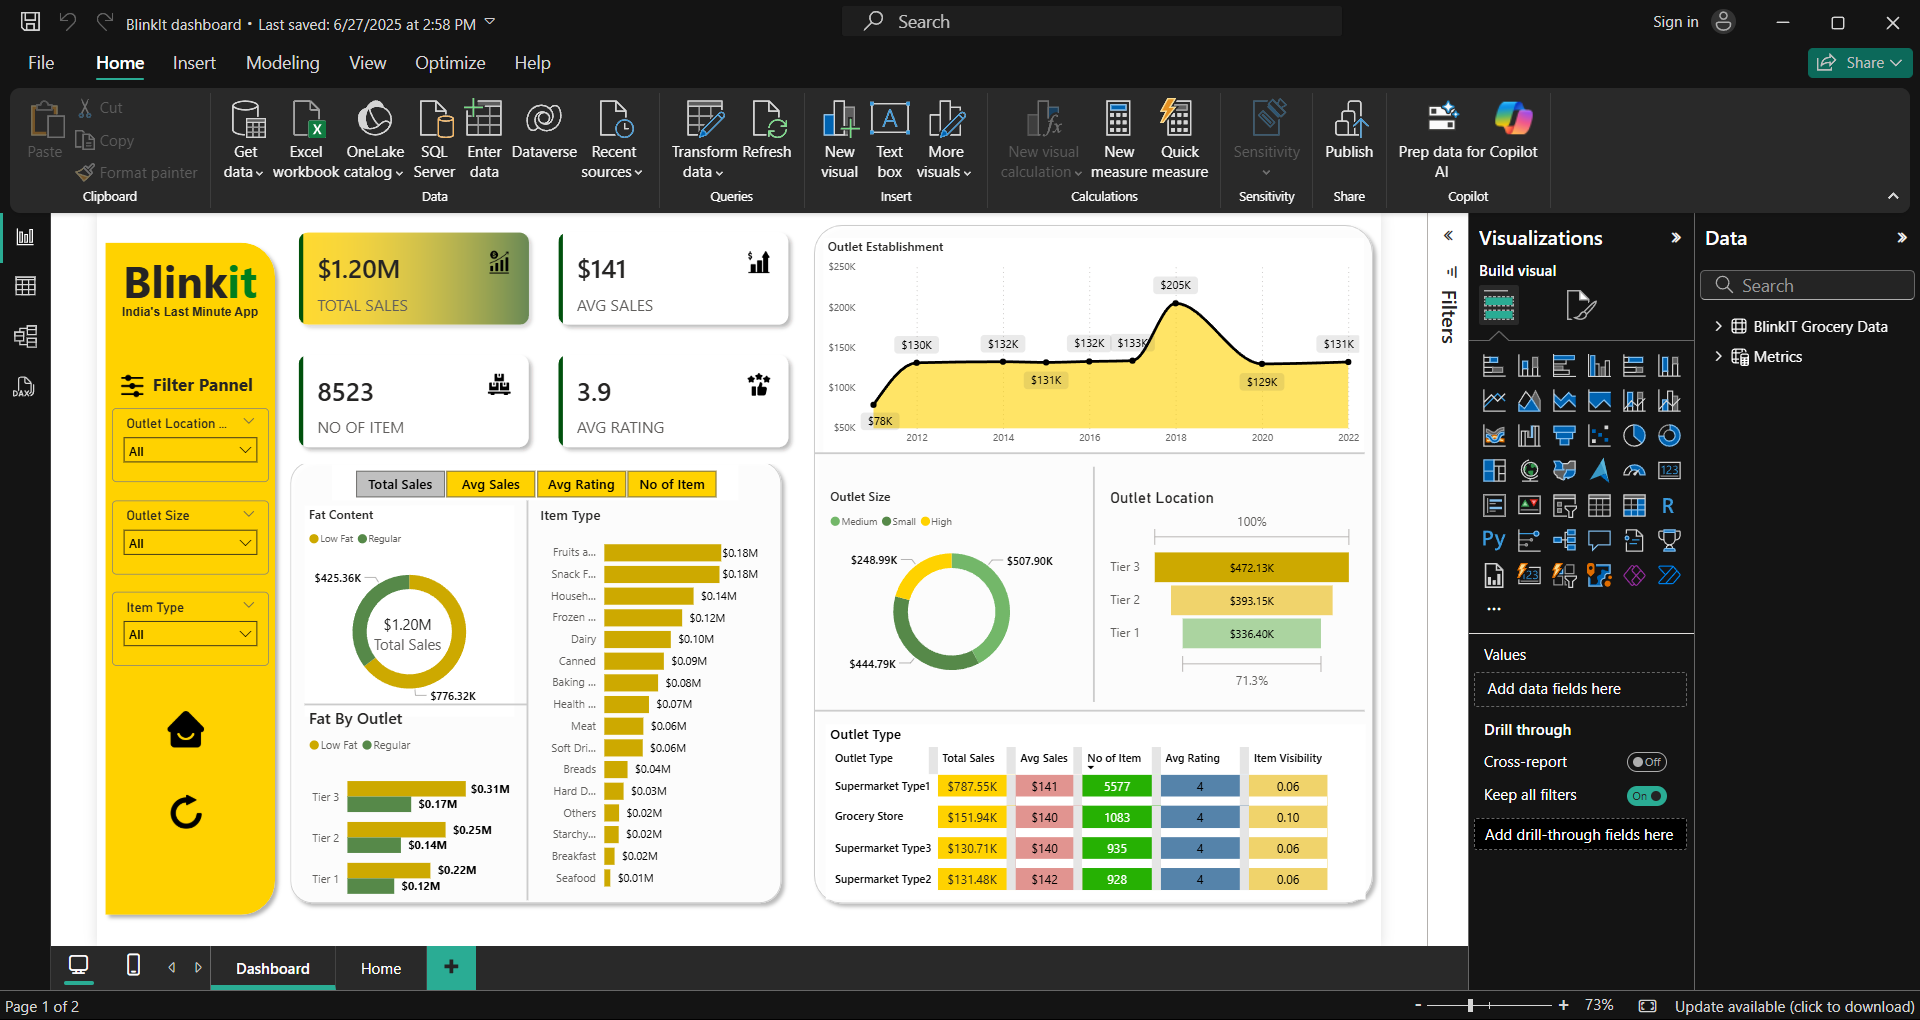

What the dashboard file says about the page in this screenshot:
{"tool":"powerbi","page":{"name":"Dashboard","canvas":[1400,800],"ordinal":0},"visuals":[{"type":"shape","box":[201.4,262.3,553.6,500],"z":0},{"type":"shape","box":[0,23.2,203.1,751.2],"z":1000},{"type":"textbox","box":[0,35.4,203.1,85.9],"z":2000},{"type":"textbox","box":[12.3,92.7,178.6,28.6],"z":3000},{"type":"cardVisual","fields":{"Data":["BlinkIT Grocery Data.Total Sales","BlinkIT Grocery Data.Average Sales","BlinkIT Grocery Data.No of Item","BlinkIT Grocery Data.Average Rating"]},"box":[203.1,4.1,569.9,269.9],"z":4000},{"type":"donutChart","title":"Fat Content","fields":{"Y":["BlinkIT Grocery Data.Total Sales"],"Category":["BlinkIT Grocery Data.Item Fat Content"]},"box":[226.1,318.8,229,230.4],"z":5000},{"type":"slicer","fields":{"Values":["Metrics.Metrics"]},"box":[256.5,273.9,443.5,39.1],"z":6000},{"type":"cardVisual","fields":{"Data":["BlinkIT Grocery Data.Total Sales"]},"box":[281.7,419.7,113,78.3],"z":7000},{"type":"clusteredBarChart","title":"Fat By  Outlet","fields":{"Y":["BlinkIT Grocery Data.Total Sales"],"Category":["BlinkIT Grocery Data.Outlet Location Type"],"Series":["BlinkIT Grocery Data.Item Fat Content"]},"box":[226.1,539.1,229,229],"z":8000},{"type":"shape","box":[226.1,520.3,243.5,30.4],"z":9000},{"type":"shape","box":[460.9,313,17.4,436.2],"z":10000},{"type":"barChart","title":"Item Type","fields":{"Y":["BlinkIT Grocery Data.Total Sales"],"Category":["BlinkIT Grocery Data.Item Type"]},"box":[478.3,318.8,247.8,430.4],"z":11000},{"type":"shape","box":[772.5,4.3,627.5,758],"z":12000},{"type":"lineChart","title":" Outlet Establishment ","fields":{"Category":["BlinkIT Grocery Data.Outlet Establishment Year"],"Y":["BlinkIT Grocery Data.Total Sales"]},"box":[792.8,27.5,589.9,234.8],"z":13000},{"type":"shape","box":[782.6,246.4,600,30.4],"z":14000},{"type":"donutChart","title":"Outlet Size","fields":{"Y":["BlinkIT Grocery Data.Total Sales"],"Category":["BlinkIT Grocery Data.Outlet Size"]},"box":[795.1,300,275,225],"z":15000},{"type":"shape","box":[1075.4,276.8,23.2,256.5],"z":16000},{"type":"funnel","title":"Outlet Location","fields":{"Category":["BlinkIT Grocery Data.Outlet Location Type"],"Y":["BlinkIT Grocery Data.Total Sales"]},"box":[1100.9,300,275.4,224.6],"z":17000},{"type":"shape","box":[782.6,527.5,600,30.4],"z":17001},{"type":"pivotTable","title":"Outlet Type","fields":{"Rows":["BlinkIT Grocery Data.Outlet Type"],"Values":["BlinkIT Grocery Data.Total Sales","BlinkIT Grocery Data.Avg Sales","BlinkIT Grocery Data.No of Item","BlinkIT Grocery Data.Avg Rating","Avg(BlinkIT Grocery Data.Item Visibility)"]},"box":[794.2,558,588.4,191.3],"z":17002},{"type":"slicer","fields":{"Values":["BlinkIT Grocery Data.Outlet Location Type"]},"box":[15.9,213,171,81.2],"z":17003},{"type":"slicer","fields":{"Values":["BlinkIT Grocery Data.Outlet Size"]},"box":[15.9,313,171,81.2],"z":17004},{"type":"slicer","fields":{"Values":["BlinkIT Grocery Data.Item Type"]},"box":[15.9,413,171,81.2],"z":17005},{"type":"textbox","box":[56.5,169.6,133.3,43.5],"z":17006},{"type":"image","box":[71,630.4,52.2,46.4],"z":17007},{"type":"image","box":[71,533.3,52.2,59.4],"z":17008},{"type":"image","box":[20.3,169.6,36.2,39.1],"z":17009}]}

Visuals, with their boxes on the page's 1400x800 design canvas (x1, y1, x2, y2). These are canvas units, not pixel positions in the 1920x1020 screenshot, which may show the page scaled, cropped or inside an application window:
shape: [201,262,755,762]
shape: [0,23,203,774]
textbox: [0,35,203,121]
textbox: [12,93,191,121]
cardVisual - BlinkIT Grocery Data.Total Sales x BlinkIT Grocery Data.Average Sales: [203,4,773,274]
"Fat Content" donutChart: [226,319,455,549]
slicer - Metrics.Metrics: [256,274,700,313]
cardVisual - BlinkIT Grocery Data.Total Sales: [282,420,395,498]
"Fat By  Outlet" clusteredBarChart: [226,539,455,768]
shape: [226,520,470,551]
shape: [461,313,478,749]
"Item Type" barChart: [478,319,726,749]
shape: [772,4,1400,762]
" Outlet Establishment " lineChart: [793,28,1383,262]
shape: [783,246,1383,277]
"Outlet Size" donutChart: [795,300,1070,525]
shape: [1075,277,1099,533]
"Outlet Location" funnel: [1101,300,1376,525]
shape: [783,528,1383,558]
"Outlet Type" pivotTable: [794,558,1383,749]
slicer - BlinkIT Grocery Data.Outlet Location Type: [16,213,187,294]
slicer - BlinkIT Grocery Data.Outlet Size: [16,313,187,394]
slicer - BlinkIT Grocery Data.Item Type: [16,413,187,494]
textbox: [56,170,190,213]
image: [71,630,123,677]
image: [71,533,123,593]
image: [20,170,56,209]
